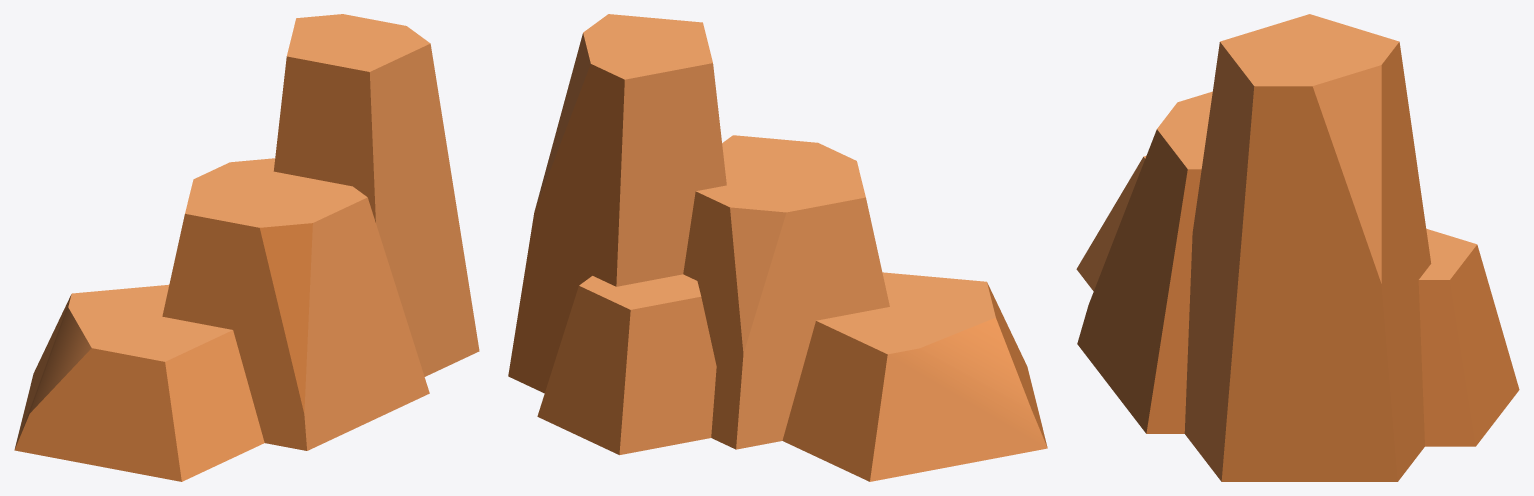
The model's file is rockC2.fbx.
3 renders of one model, left to right at view 1: azimuth 30°, elevation 25°; view 2: azimuth 150°, elevation 25°; view 3: azimuth 270°, elevation 25°, orthographic. The views are drawn at different scales.
Parts seen in each view (by area): view 1: rockC2; view 2: rockC2; view 3: rockC2.
Part boxes in pixels (box(x1,y1,x2,y2)): rockC2: box(14, 14, 479, 481); rockC2: box(508, 14, 1047, 481); rockC2: box(1076, 14, 1519, 481).
Size of the model in its own units: 220 by 143 by 153.
